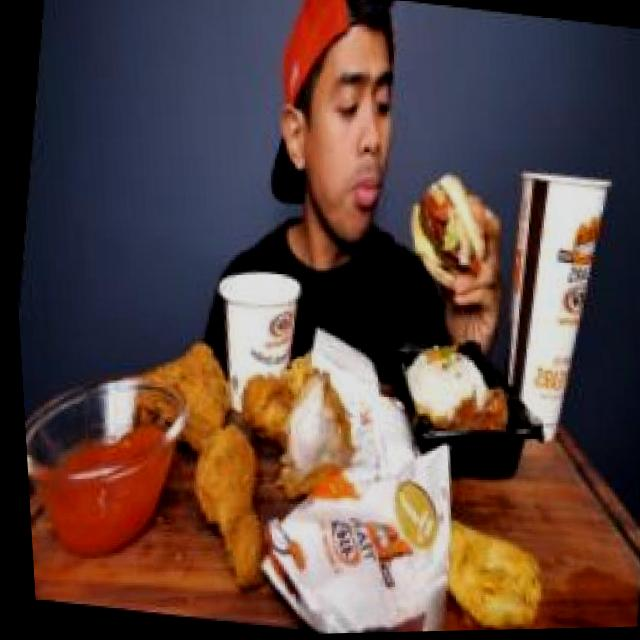AW cola: (459, 142, 631, 448)
black pepper rice bowl: (381, 334, 527, 457)
fried chicken: (91, 329, 367, 587)
mozza burger: (388, 160, 499, 304)
perkedel: (412, 501, 548, 633)
